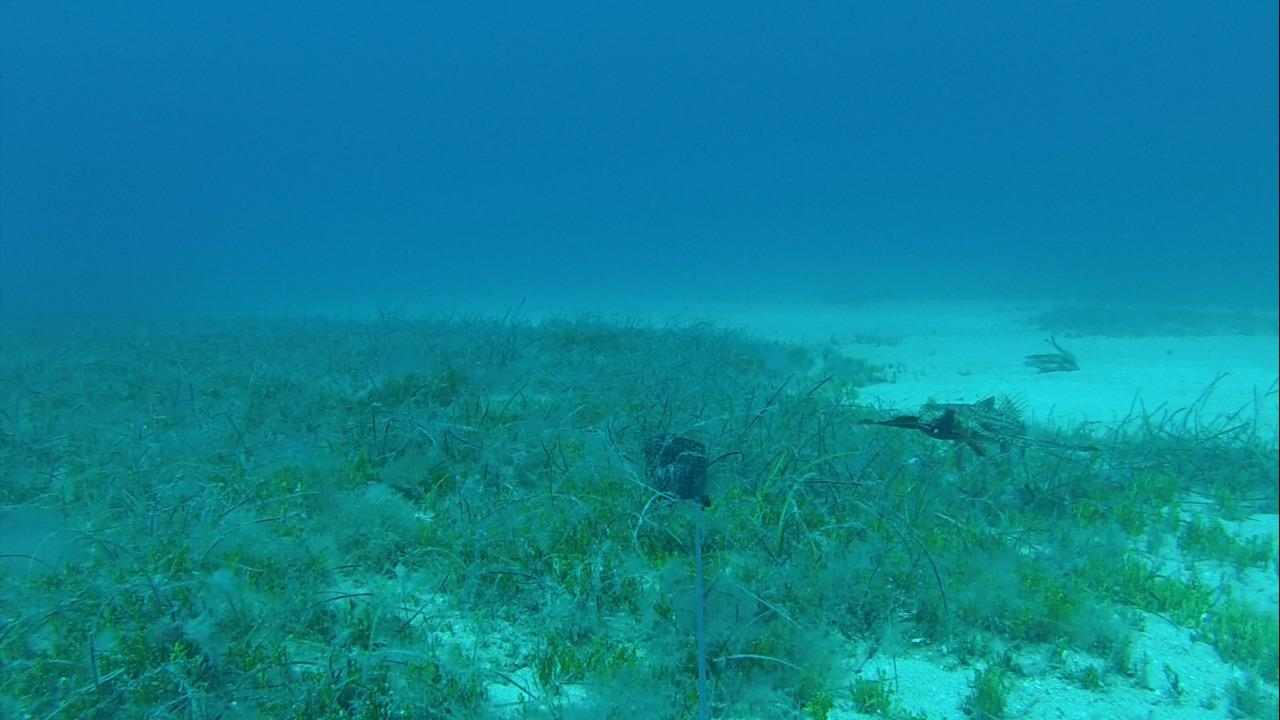dactylopterus: (850, 385, 1106, 475)
